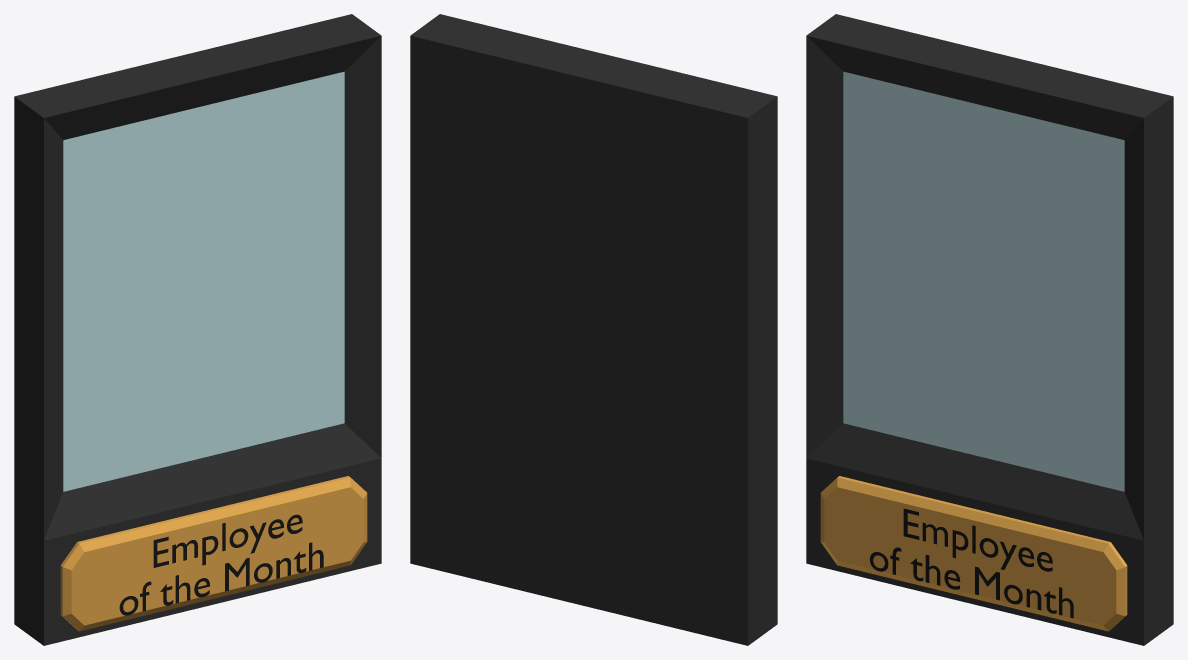
Rendered from employeeOfTheMonth.fbx.
The picture shows the model from 3 angles, left to right: view 1: azimuth 30°, elevation 25°; view 2: azimuth 150°, elevation 25°; view 3: azimuth 330°, elevation 25°; orthographic projection.
Visible parts, largest first — view 1: Employee of the Month; view 2: Employee of the Month; view 3: Employee of the Month.
Part boxes in pixels (left/top/right/bottom): Employee of the Month: left=14, top=14, right=381, bottom=645; Employee of the Month: left=410, top=14, right=777, bottom=645; Employee of the Month: left=806, top=14, right=1173, bottom=645.
Bounding box in the file's own units: 65.79 × 12.06 × 98.24.
